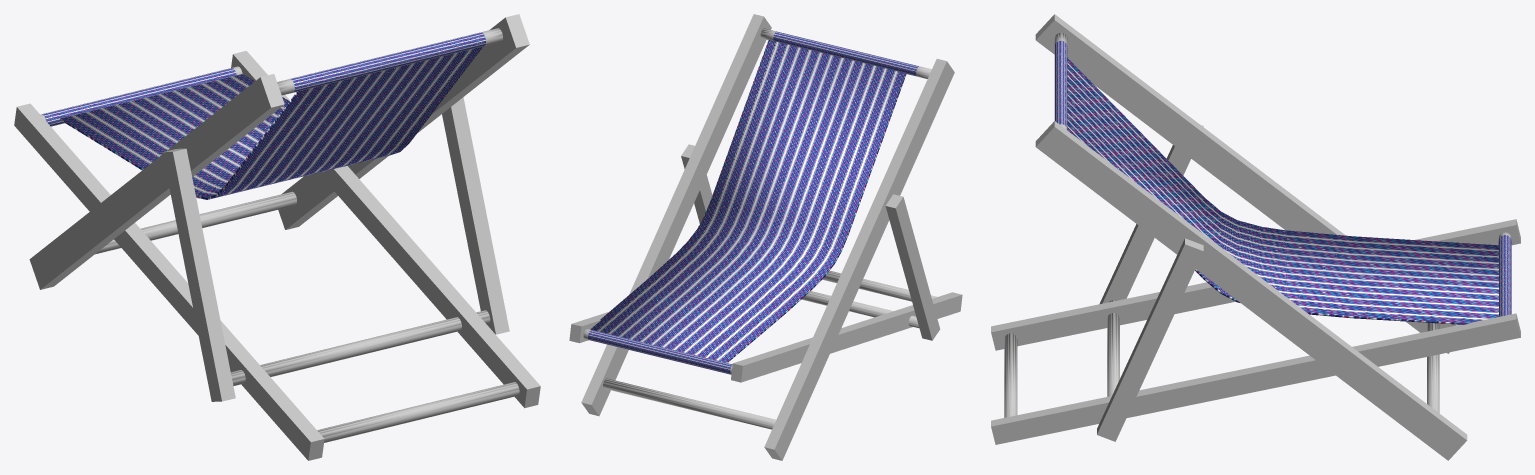
The model's file is ChairBeach.FBX.
The picture shows the model from 3 angles, left to right: view 1: azimuth 30°, elevation 25°; view 2: azimuth 150°, elevation 25°; view 3: azimuth 270°, elevation 25°; orthographic projection. The views are drawn at different scales.
Visible parts, largest first — view 1: ChairBeach; view 2: ChairBeach; view 3: ChairBeach.
Boxes of the visible parts, x1,y1,x2,y2 form: ChairBeach: [14, 14, 540, 460]; ChairBeach: [569, 14, 962, 460]; ChairBeach: [991, 14, 1520, 460].
Bounding box in the file's own units: 53.97 × 67.09 × 96.43.
